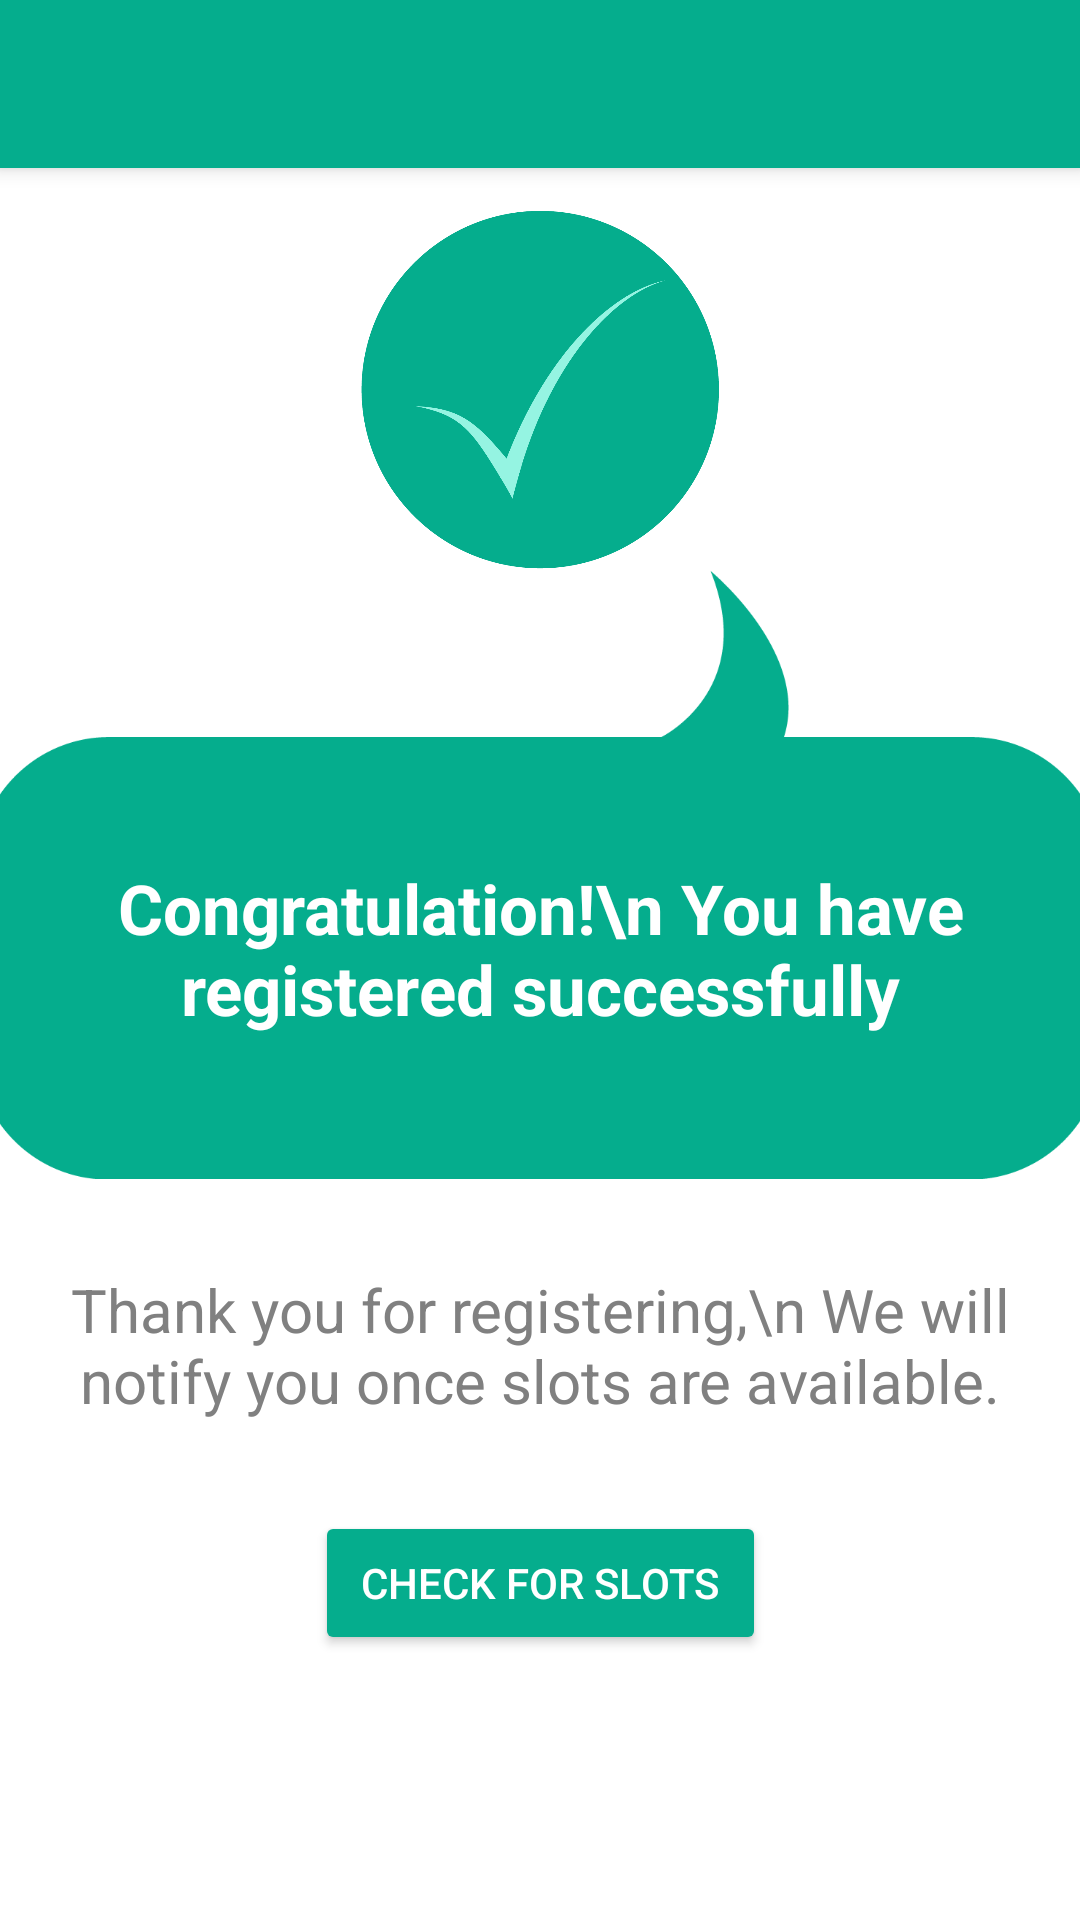

Locate icon controls on the screen. Image size 1080×1920, boxes as (x1, y1, x2, y2).
tick art: (361, 211, 719, 569)
